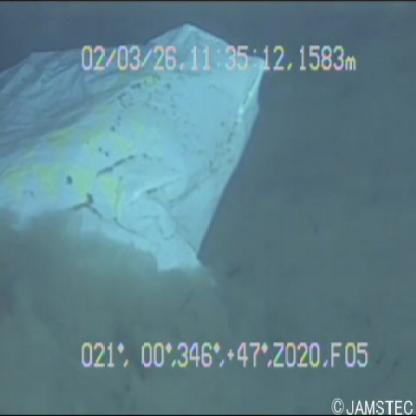Rác: (1, 21, 288, 298)
